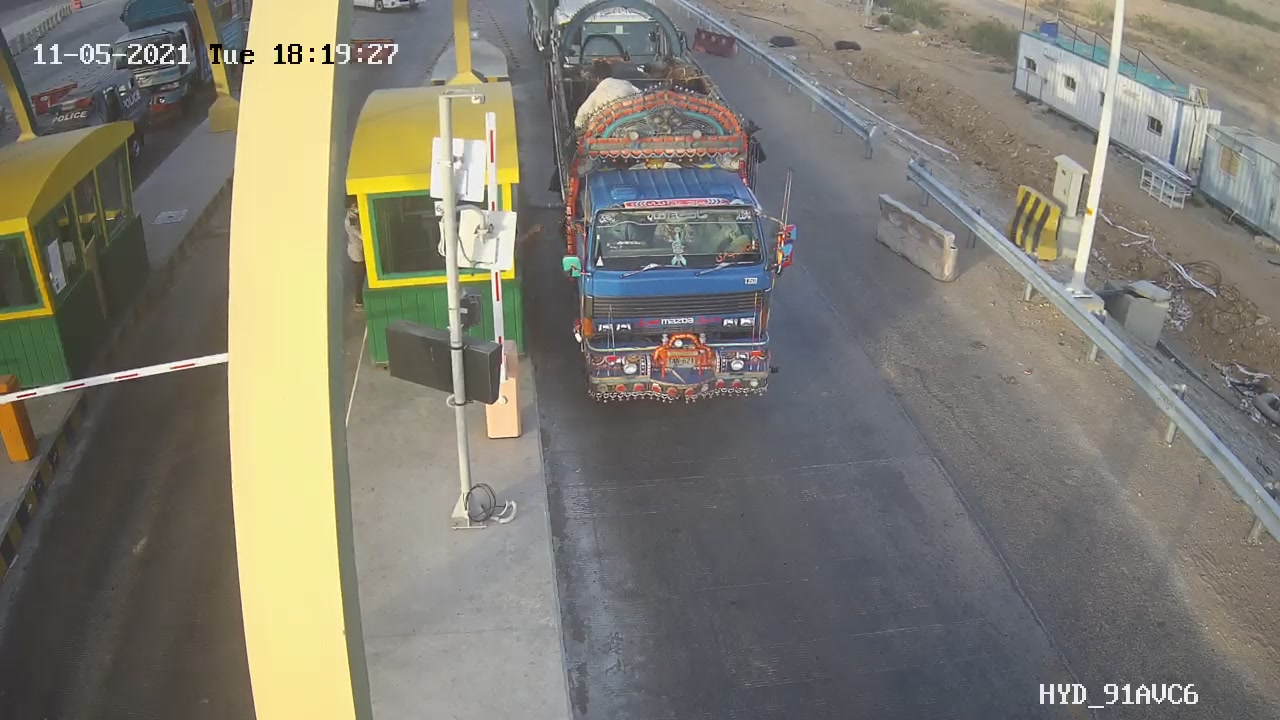F5: (548, 69, 812, 410)
